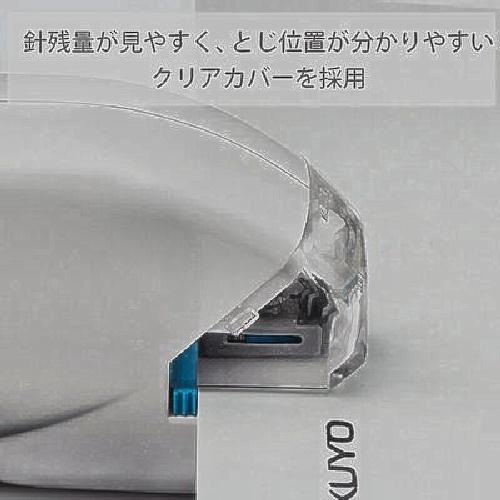stapler: (24, 78, 365, 471)
